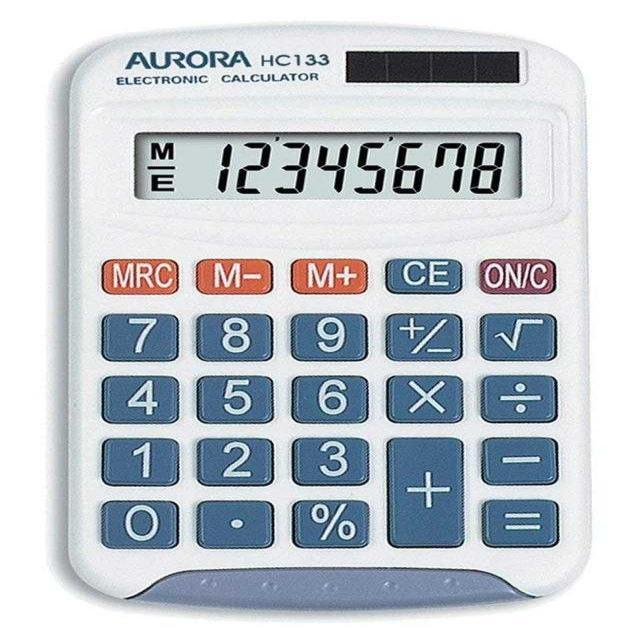Calculator: (64, 24, 591, 611)
